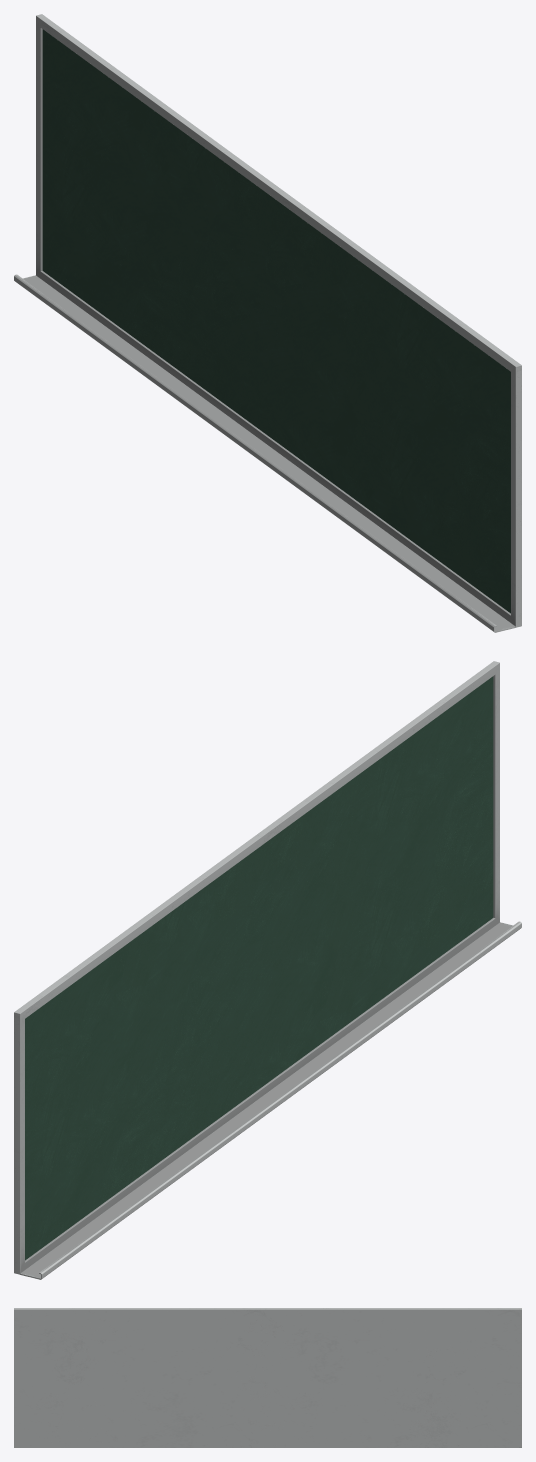
The model's file is SM_Chalkboard_400.fbx.
3 renders of one model, top to bottom at view 1: azimuth 30°, elevation 25°; view 2: azimuth 150°, elevation 25°; view 3: azimuth 270°, elevation 25°, orthographic. The views are drawn at different scales.
Visible parts, largest first — view 1: SM_Chalkboard_400_LOD0; view 2: SM_Chalkboard_400_LOD0; view 3: SM_Chalkboard_400_LOD0.
Part boxes in pixels (x1,y1,x2,y2): SM_Chalkboard_400_LOD0: [14, 14, 521, 632]; SM_Chalkboard_400_LOD0: [14, 661, 521, 1279]; SM_Chalkboard_400_LOD0: [14, 1308, 521, 1447].
Bounding box in the file's own units: 13.46 × 400 × 120.
